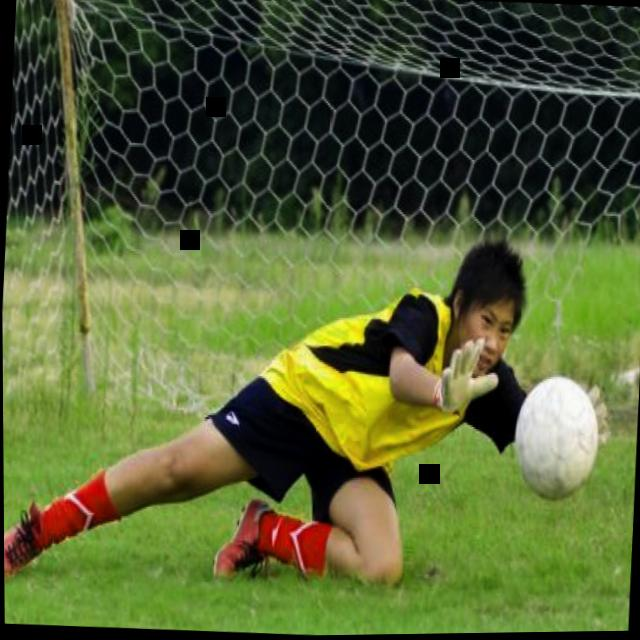Fall-Detected: (15, 188, 593, 624)
